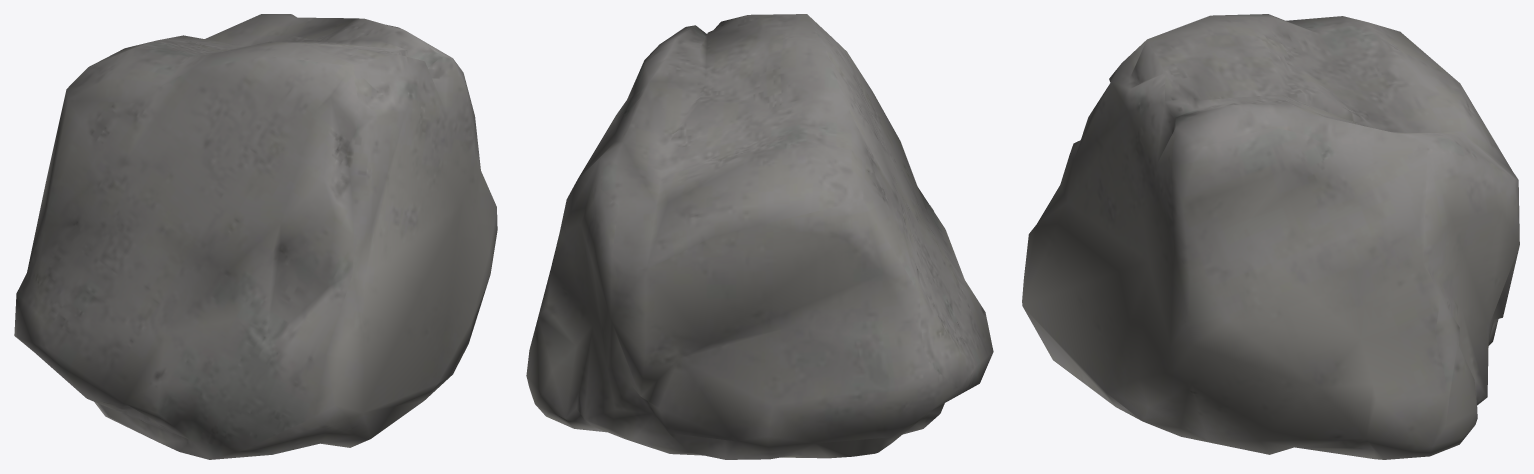
Rendered from moon_rock_02.glb.
3 renders of one model, left to right at view 1: azimuth 30°, elevation 25°; view 2: azimuth 150°, elevation 25°; view 3: azimuth 270°, elevation 25°, orthographic. The views are drawn at different scales.
Parts seen in each view (by area): view 1: moon_rock_02_LOD0; view 2: moon_rock_02_LOD0; view 3: moon_rock_02_LOD0.
Boxes of the visible parts, left/top/right/bottom form: moon_rock_02_LOD0: left=14, top=14, right=497, bottom=459; moon_rock_02_LOD0: left=526, top=14, right=993, bottom=459; moon_rock_02_LOD0: left=1022, top=14, right=1519, bottom=459.
Size of the model in its own units: 0.2457 by 0.2019 by 0.2513.
Materials: 1 (1 with a texture image).
